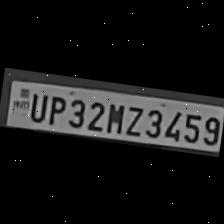2: (84, 96, 107, 131)
3: (64, 94, 88, 128), (140, 104, 164, 138)
4: (162, 106, 182, 140)
5: (180, 108, 202, 142)
9: (200, 112, 223, 146)
M: (102, 99, 125, 134)
P: (44, 91, 68, 125)
U: (26, 89, 48, 122)
Z: (122, 101, 145, 135)
